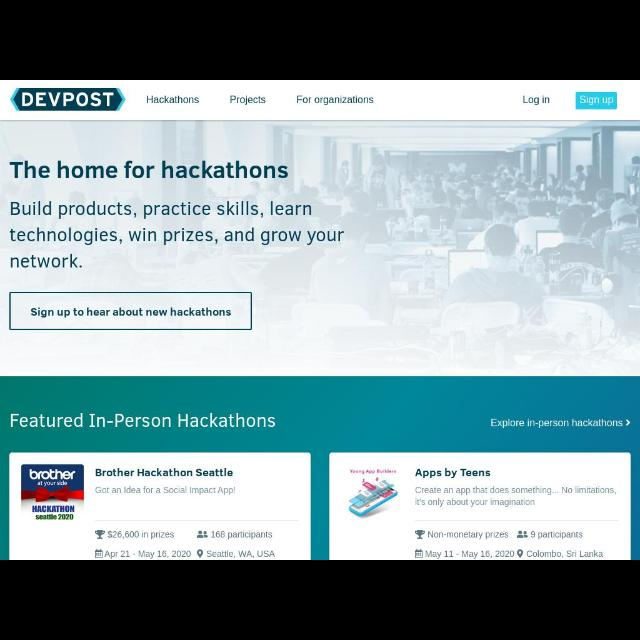backgroundimage: (1, 121, 639, 375)
icon: (94, 530, 106, 540), (415, 530, 425, 540), (517, 530, 529, 538), (95, 548, 104, 558), (415, 549, 423, 559), (198, 531, 208, 539), (516, 550, 524, 558), (196, 550, 204, 558), (626, 419, 630, 426)
image: (22, 464, 84, 520), (10, 88, 126, 112), (346, 468, 399, 518)
panel: (0, 377, 638, 559), (9, 452, 311, 560), (329, 453, 631, 559)
text: (10, 202, 344, 268), (10, 160, 288, 180), (11, 412, 276, 428), (414, 487, 616, 507), (31, 308, 231, 318), (95, 486, 235, 496), (492, 418, 622, 428), (95, 469, 232, 477), (426, 550, 514, 560), (428, 530, 508, 540), (296, 95, 374, 105), (415, 468, 491, 478), (105, 551, 192, 559), (108, 530, 174, 540), (526, 550, 604, 558), (212, 530, 272, 540), (206, 550, 276, 558), (530, 530, 584, 540), (146, 96, 200, 104), (230, 95, 266, 106), (580, 96, 614, 106), (524, 96, 550, 106)
textbutton: (9, 292, 252, 330), (575, 92, 617, 110)
toolbar: (1, 81, 640, 121)
